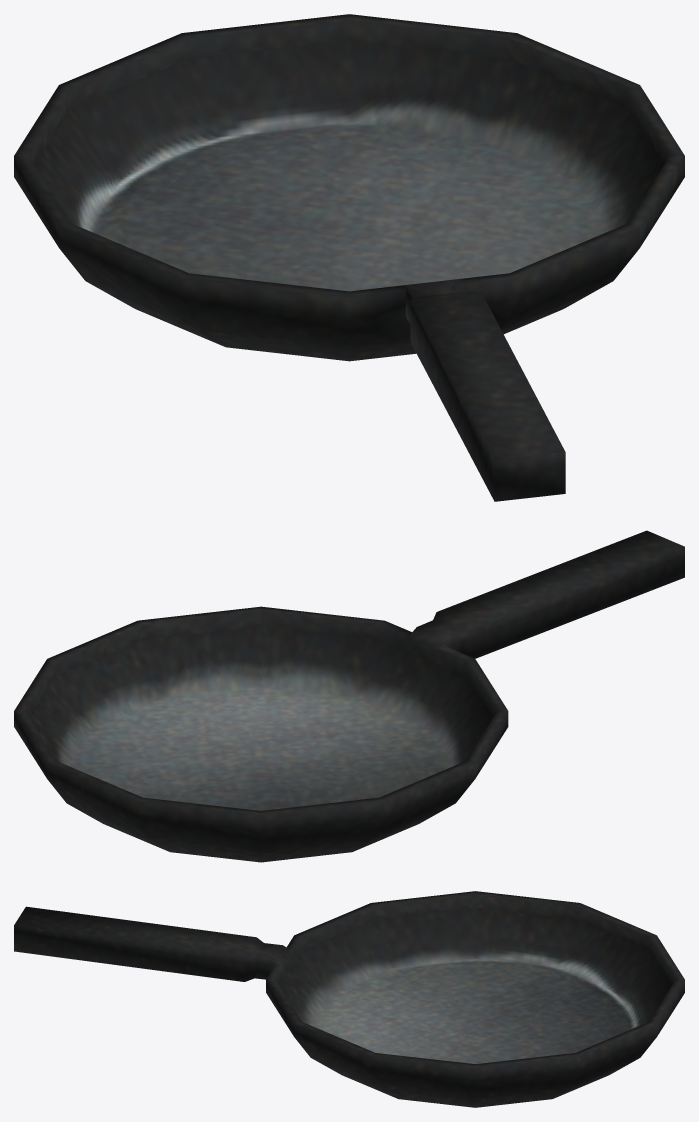
File: pan.obj
3 views of the same model, one above another, from view 1: azimuth 30°, elevation 25°; view 2: azimuth 150°, elevation 25°; view 3: azimuth 270°, elevation 25° (orthographic). The views are drawn at different scales.
Parts seen in each view (by area): view 1: pan; view 2: pan; view 3: pan.
Part boxes in pixels (box(x1,y1,x2,y2)): pan: box(14, 14, 684, 501); pan: box(14, 530, 684, 862); pan: box(14, 891, 684, 1107).
Size of the model in its own units: 0.5281 by 0.0981 by 0.846.
